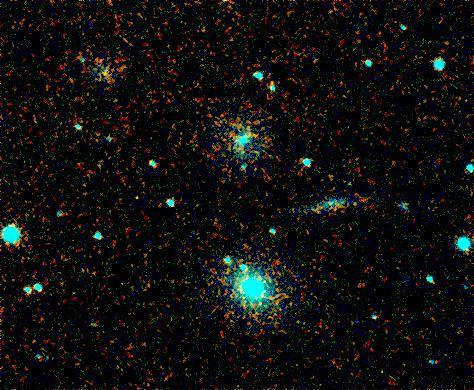star: (252, 63, 282, 93)
